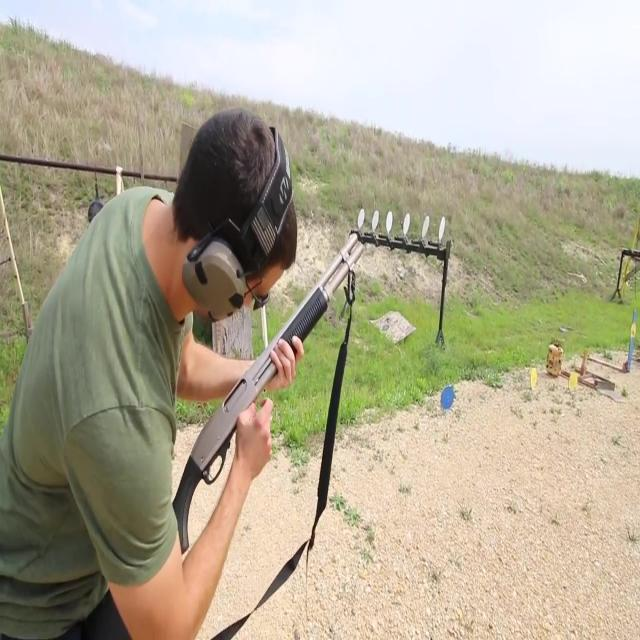Weapon: (116, 201, 376, 578)
